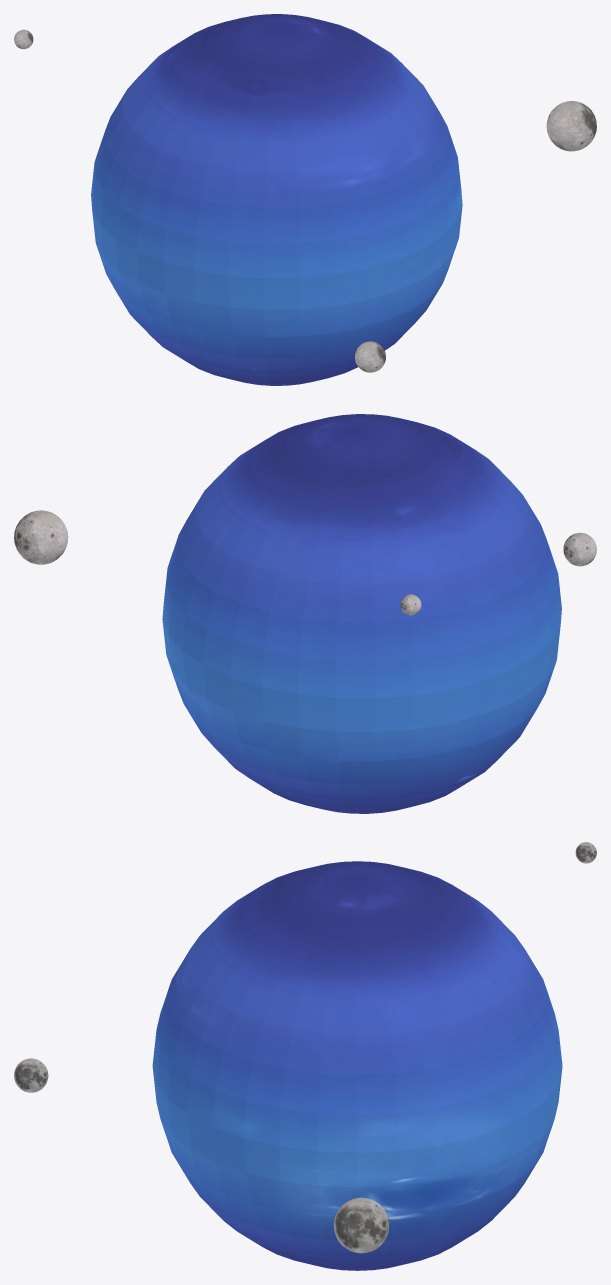
File: neptunol.glb
3 views of the same model, one above another, from view 1: azimuth 30°, elevation 25°; view 2: azimuth 150°, elevation 25°; view 3: azimuth 270°, elevation 25° (orthographic). The views are drawn at different scales.
Parts seen in each view (by area): view 1: Esfera, Esfera.003, Esfera.002; view 2: Esfera, Esfera.003, Esfera.002; view 3: Esfera, Esfera.003, Esfera.002.
Boxes of the visible parts, bbox=[...] form: Esfera: bbox=[91, 14, 462, 385]; Esfera.003: bbox=[546, 101, 596, 151]; Esfera.002: bbox=[355, 341, 385, 372]; Esfera: bbox=[162, 414, 561, 813]; Esfera.003: bbox=[14, 510, 68, 564]; Esfera.002: bbox=[563, 532, 596, 566]; Esfera: bbox=[152, 861, 562, 1270]; Esfera.003: bbox=[333, 1197, 389, 1253]; Esfera.002: bbox=[14, 1058, 48, 1092].
Bounding box in the file's own units: 2.98 × 2 × 2.84.
4 materials, 4 textured.
